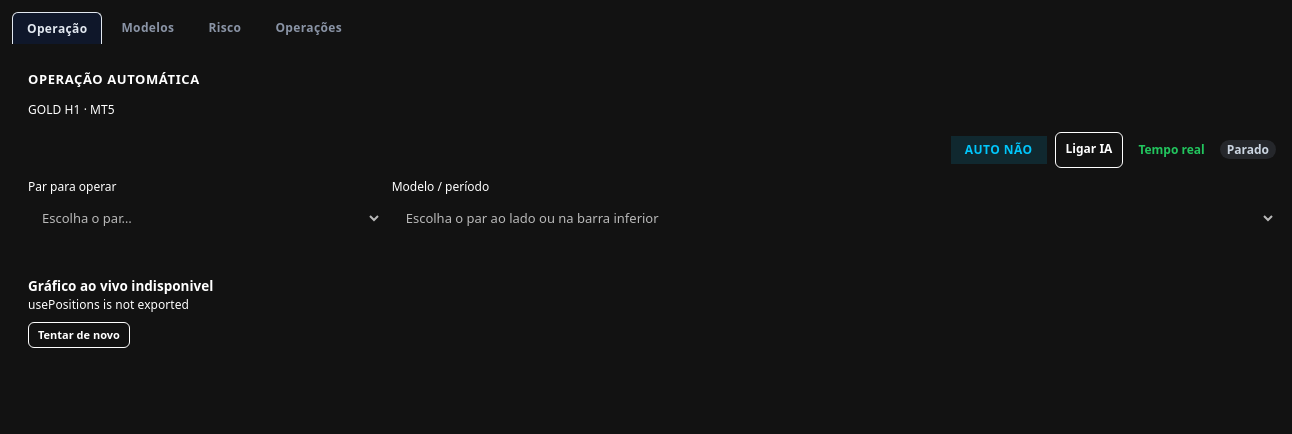
Test: RobotTabs — cada sub-aba mostra UMA coisa só (11/10/2026) › PROVA NEGATIVA: a sub-aba Risco nao monta o painel de operação de novo
Expected: the number of switches with class "robo-auto-topo" is 1, [951, 136, 1047, 164]
Step 1. Click the tab "Risco" → [225, 28], box [193, 12, 256, 43]
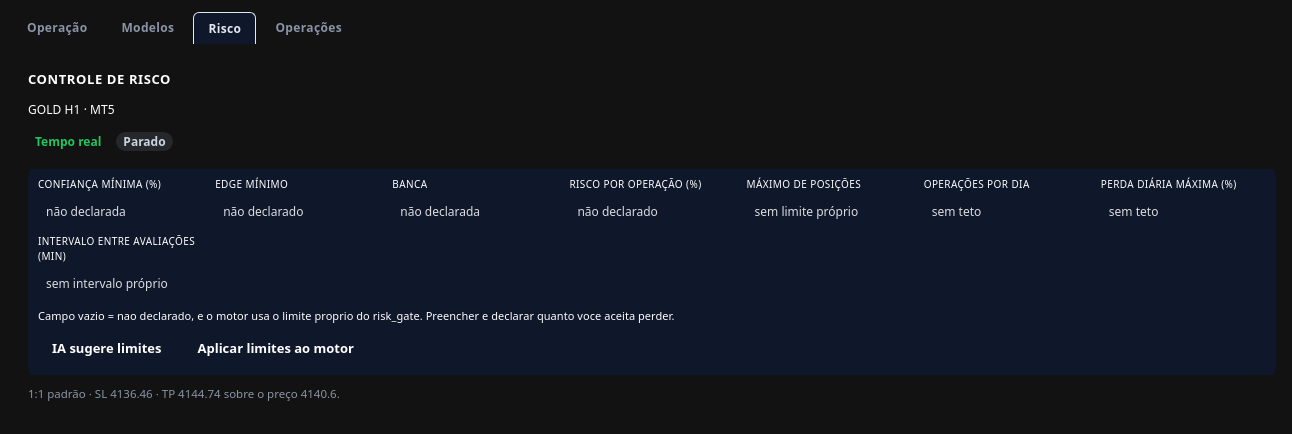
Expected: no switches with class "robo-auto-topo" are shown
Expected: the heading "Operação automática" is gone
Expected: the number field labelled "Confiança mínima (%)" is shown, [38, 196, 203, 228]
